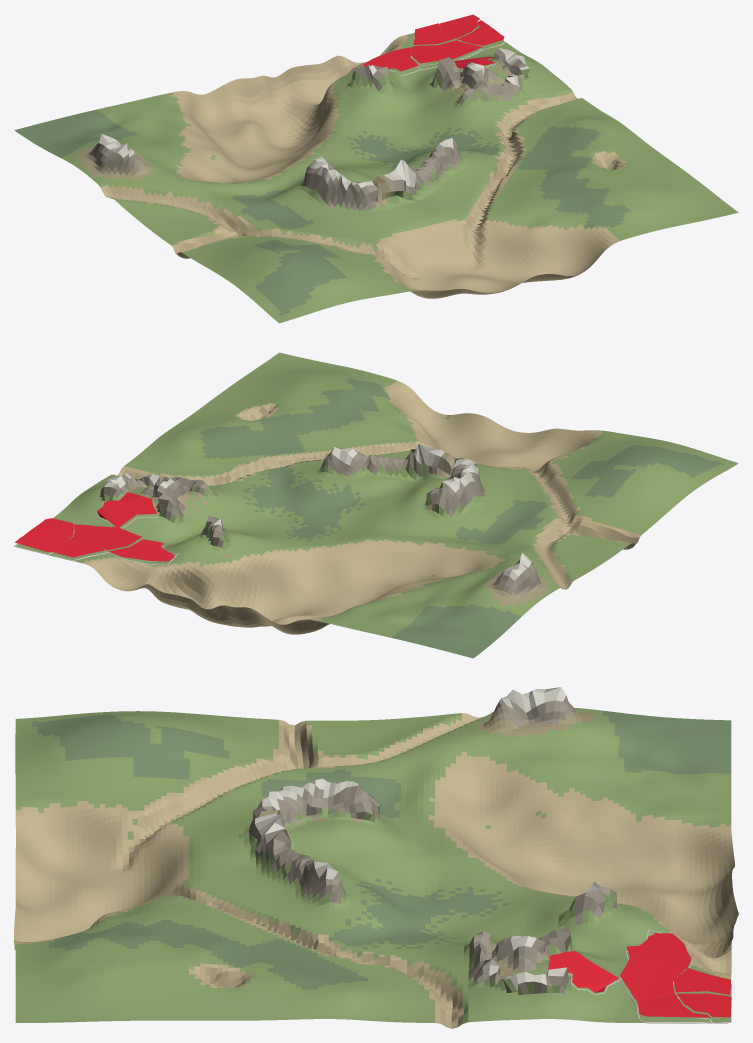
Rendered from KolejnaNewMapaTest.fbx.
3 renders of one model, top to bottom at view 1: azimuth 30°, elevation 25°; view 2: azimuth 150°, elevation 25°; view 3: azimuth 270°, elevation 25°, orthographic. The views are drawn at different scales.
Visible parts, largest first — view 1: Plane, Province.03, Province.05, Province.02, Province.04, Province.01; view 2: Plane, Province.06, Province.03, Province.05, Province.01, Province.04, Province.02; view 3: Plane, Province.03, Province.06, Province.05, Province.04, Province.02, Province.01.
Part boxes in pixels (x1=…): Plane: x1=14, y1=21, x2=738, y2=323; Province.03: x1=411, y1=40, x2=482, y2=63; Province.05: x1=363, y1=47, x2=418, y2=71; Province.02: x1=457, y1=20, x2=504, y2=45; Province.04: x1=413, y1=23, x2=455, y2=44; Province.01: x1=439, y1=14, x2=479, y2=38; Plane: x1=14, y1=352, x2=738, y2=658; Province.06: x1=97, y1=492, x2=157, y2=527; Province.03: x1=73, y1=524, x2=141, y2=550; Province.05: x1=108, y1=539, x2=174, y2=561; Province.01: x1=15, y1=534, x2=70, y2=551; Province.04: x1=49, y1=537, x2=105, y2=557; Province.02: x1=22, y1=518, x2=73, y2=537; Plane: x1=14, y1=687, x2=738, y2=1028; Province.03: x1=620, y1=957, x2=686, y2=1001; Province.06: x1=548, y1=951, x2=618, y2=992; Province.05: x1=626, y1=933, x2=691, y2=968; Province.04: x1=673, y1=968, x2=730, y2=994; Province.02: x1=637, y1=994, x2=710, y2=1017; Province.01: x1=677, y1=993, x2=731, y2=1017.
Size of the model in its own units: 9965 by 1820 by 10065.
